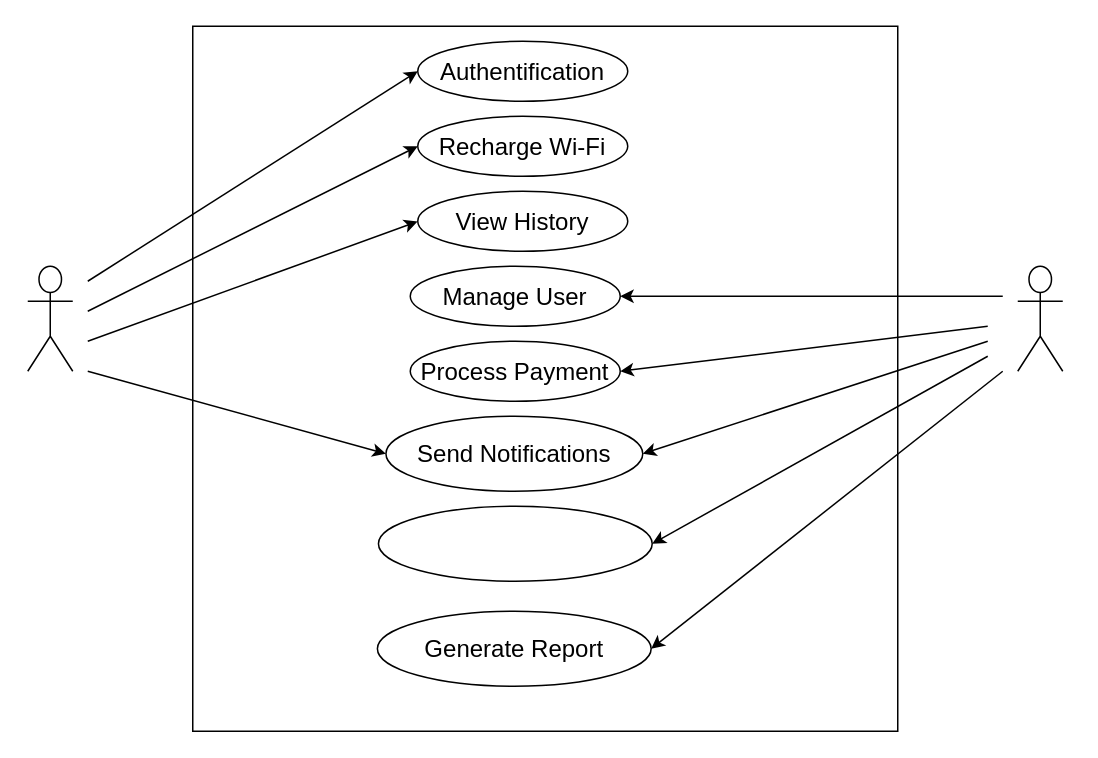
The diagram is 1098 pixels wide and 758 high, and some of its shapes have lost their labels. Each missing label, with the box of its shape:
Admin: (1016, 265, 1063, 371)
Monitor System Usage: (377, 505, 652, 581)
User: (26, 265, 73, 371)
